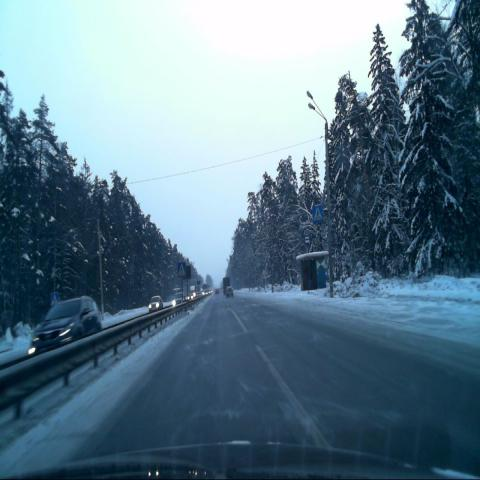5_19_1: (312, 203, 324, 224)
